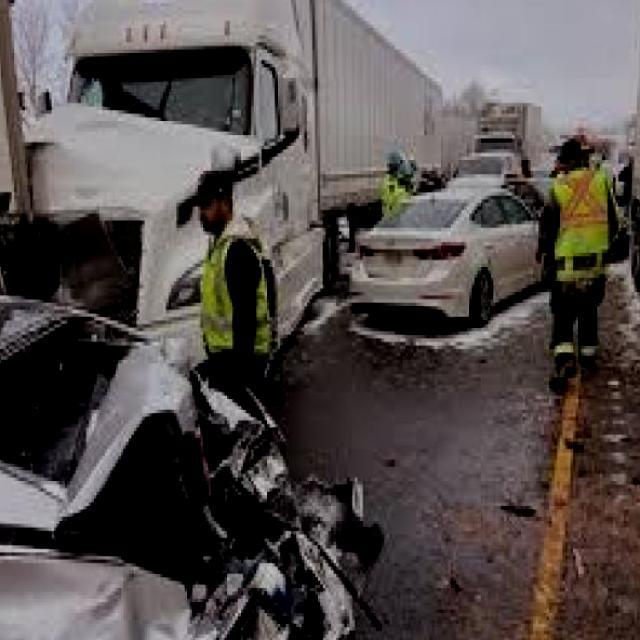accident: (0, 171, 398, 640)
